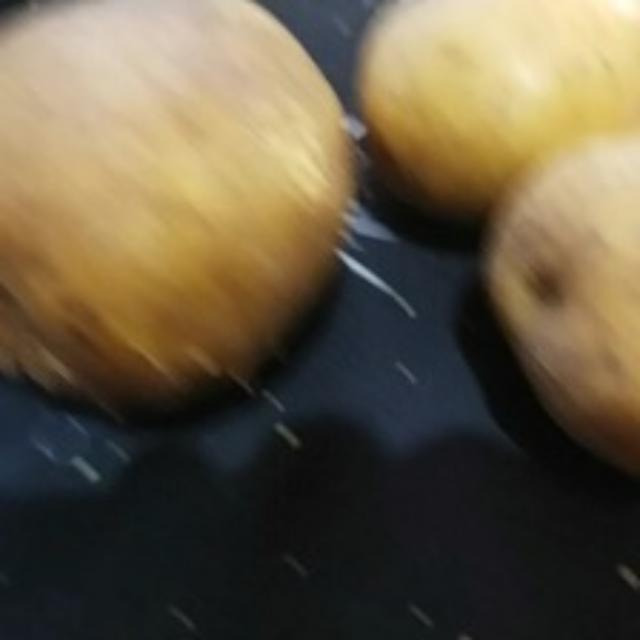Damaged potato: (1, 4, 362, 440), (467, 133, 636, 503)
Potato: (352, 5, 640, 235)
